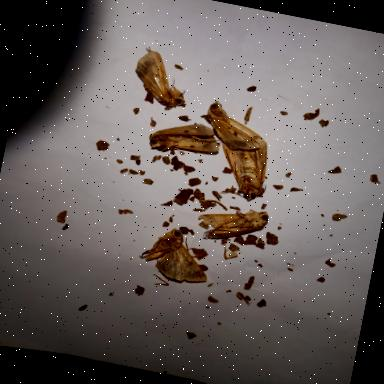abw: (134, 219, 220, 290), (202, 130, 280, 198), (118, 46, 196, 111), (139, 112, 218, 170), (190, 103, 270, 158), (188, 198, 274, 246)
